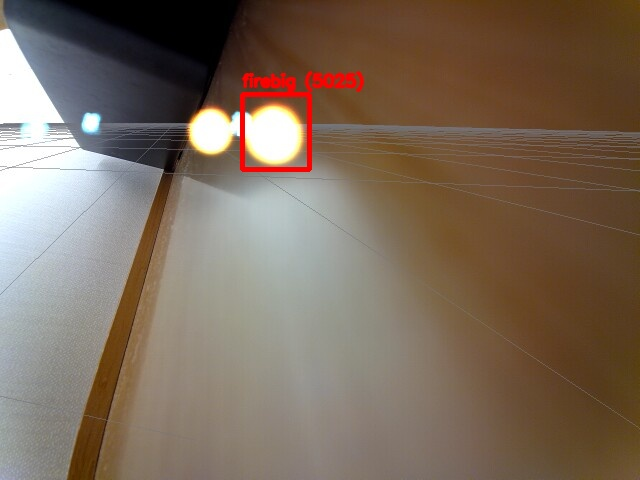firebig: (242, 94, 309, 169)
